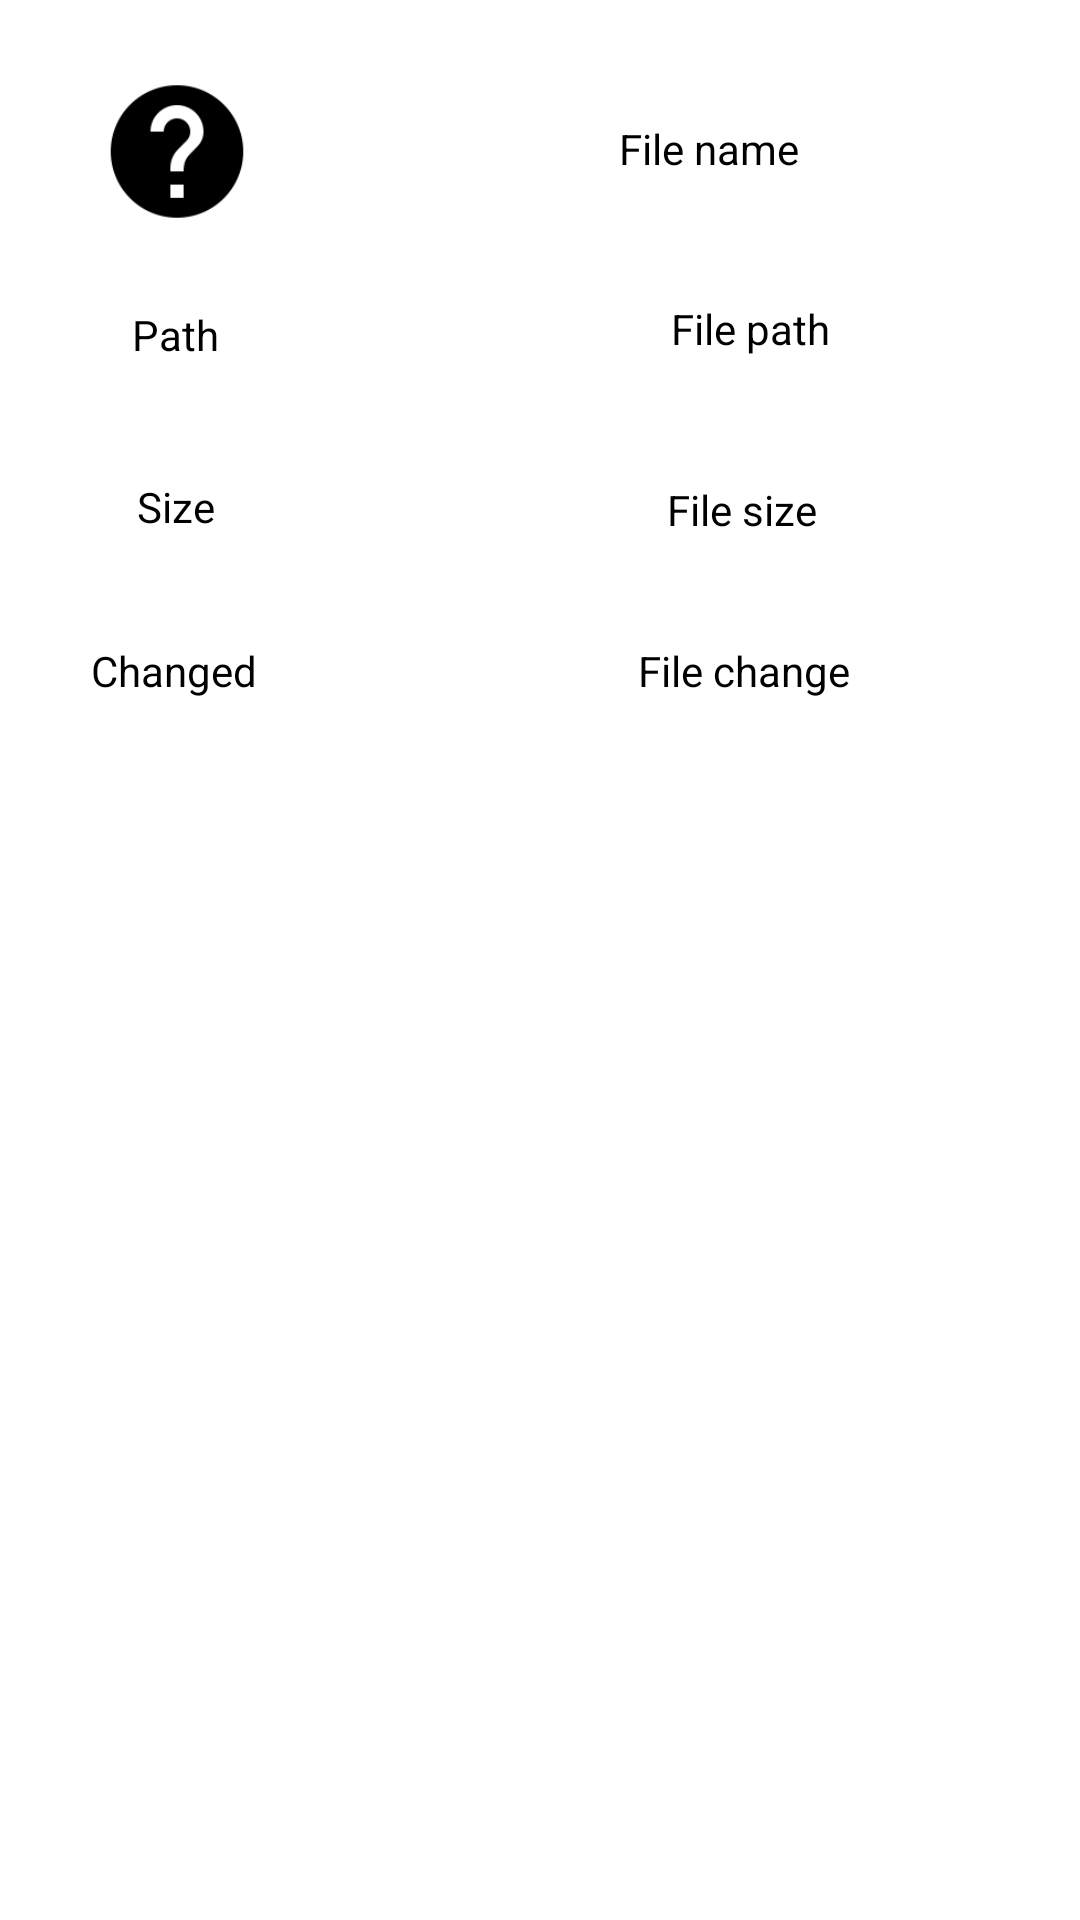

Icons on this 1080 × 1920 Android screen, each with its box as (x1, y1, x2, y2):
about: (110, 85, 244, 218)
